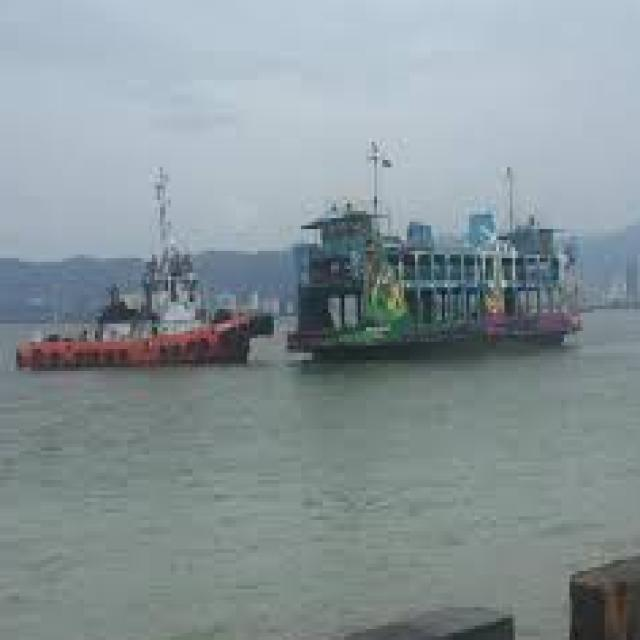fishing boat: (279, 203, 584, 352)
houseboat: (24, 262, 267, 371)
